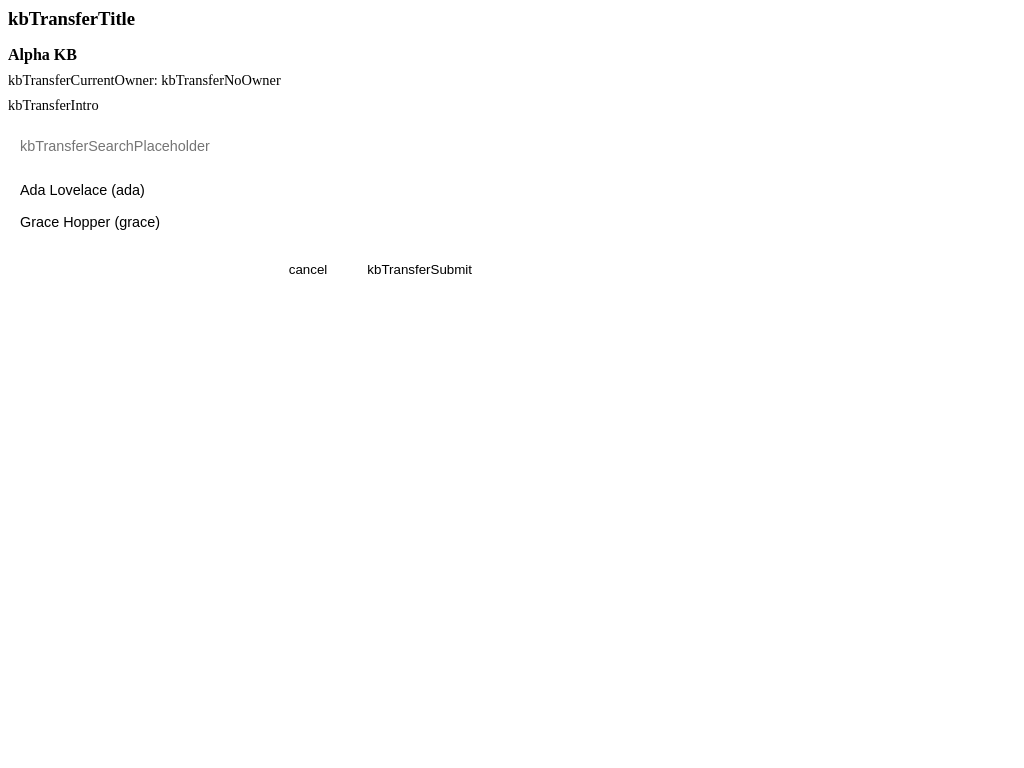
Test case: KbTransferOwnerDialog › filters users by the search box
Expected: the button "Grace Hopper (grace)" is shown, [8, 206, 488, 238]
Type "grace" into the field labelled "kbTransferSearchPlaceholder" at (260, 146), box [8, 130, 512, 162]
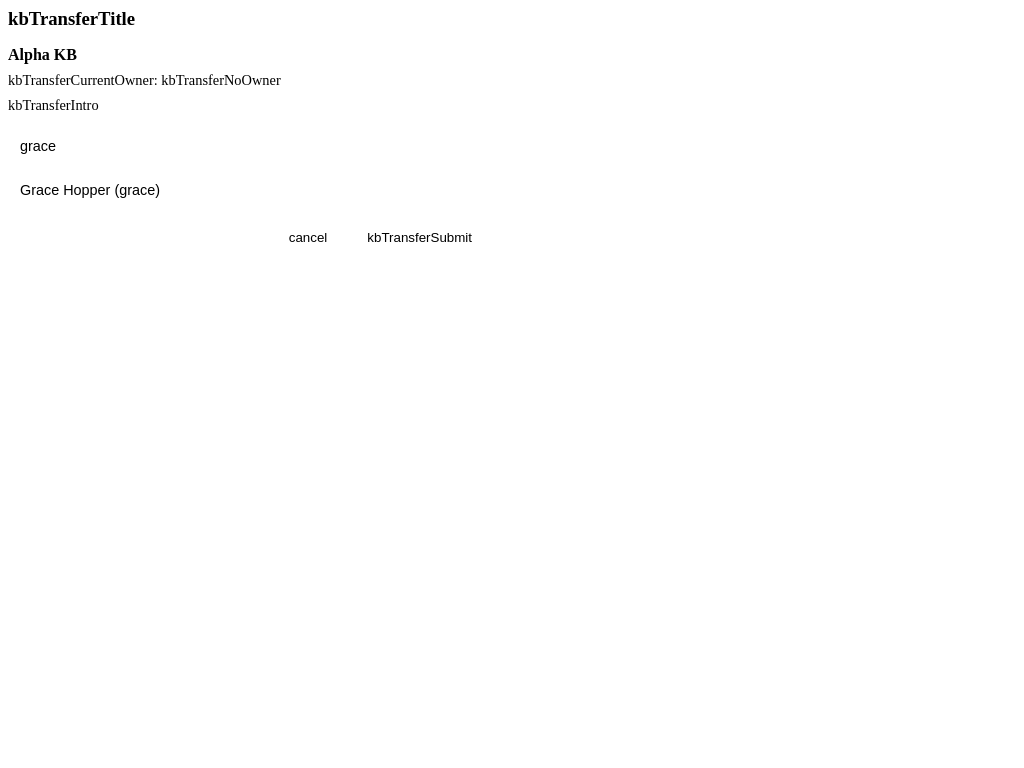
Expected: the button "Grace Hopper (grace)" is shown, [8, 174, 488, 206]
Expected: the button "Ada" is gone
